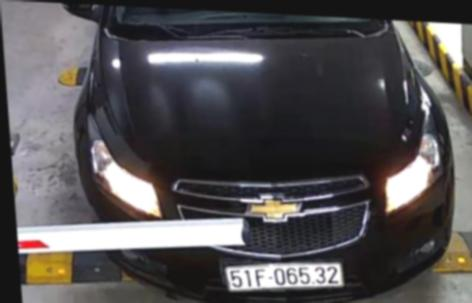License_Plate: (222, 257, 347, 298)
